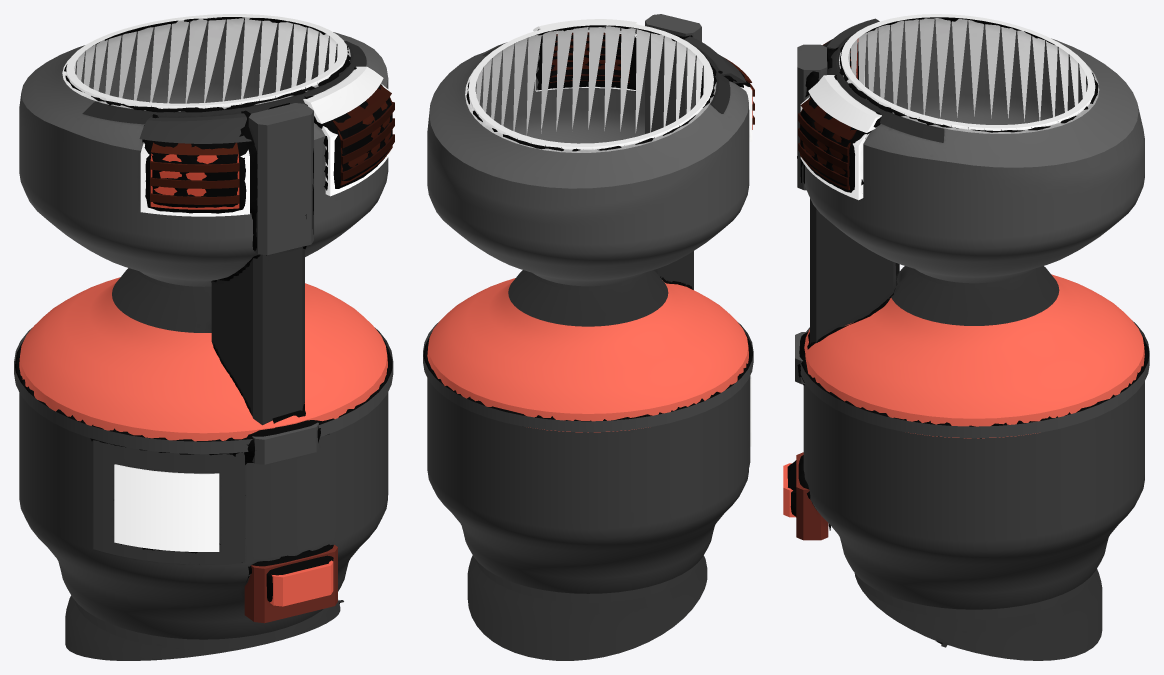
File: newshc-129.glb
3 renders of one model, left to right at view 1: azimuth 30°, elevation 25°; view 2: azimuth 150°, elevation 25°; view 3: azimuth 270°, elevation 25°, orthographic. The views are drawn at different scales.
Visible parts, largest first — view 1: newshc-129, newshc-129_outline; view 2: newshc-129, newshc-129_outline; view 3: newshc-129, newshc-129_outline.
Part boxes in pixels (x1,y1,x2,y2): newshc-129: (14,14,394,660); newshc-129_outline: (15,17,392,604); newshc-129: (423,14,754,660); newshc-129_outline: (423,25,752,421); newshc-129: (783,14,1149,660); newshc-129_outline: (787,17,1149,643).
Bounding box in the file's own units: 1.37 × 2.47 × 1.43.
Materials: 14 (10 with a texture image).
